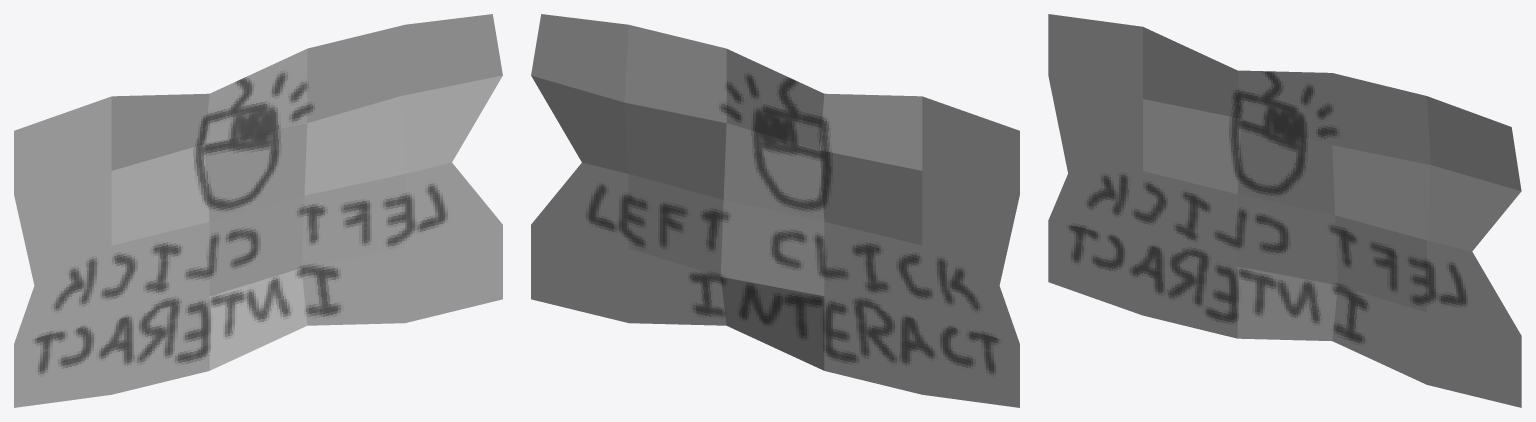
The model's file is tutorialB.gltf.
3 views of the same model, side by side, from view 1: azimuth 30°, elevation 25°; view 2: azimuth 150°, elevation 25°; view 3: azimuth 330°, elevation 25° (orthographic). The views are drawn at different scales.
Visible parts, largest first — view 1: plane; view 2: plane; view 3: plane.
Part boxes in pixels (bbox=[...]): plane: bbox=[14, 14, 502, 407]; plane: bbox=[531, 14, 1019, 407]; plane: bbox=[1048, 14, 1521, 407].
Size of the model in its own units: 3 by 1.75 by 0.0625.
Materials: 1 (1 with a texture image).
